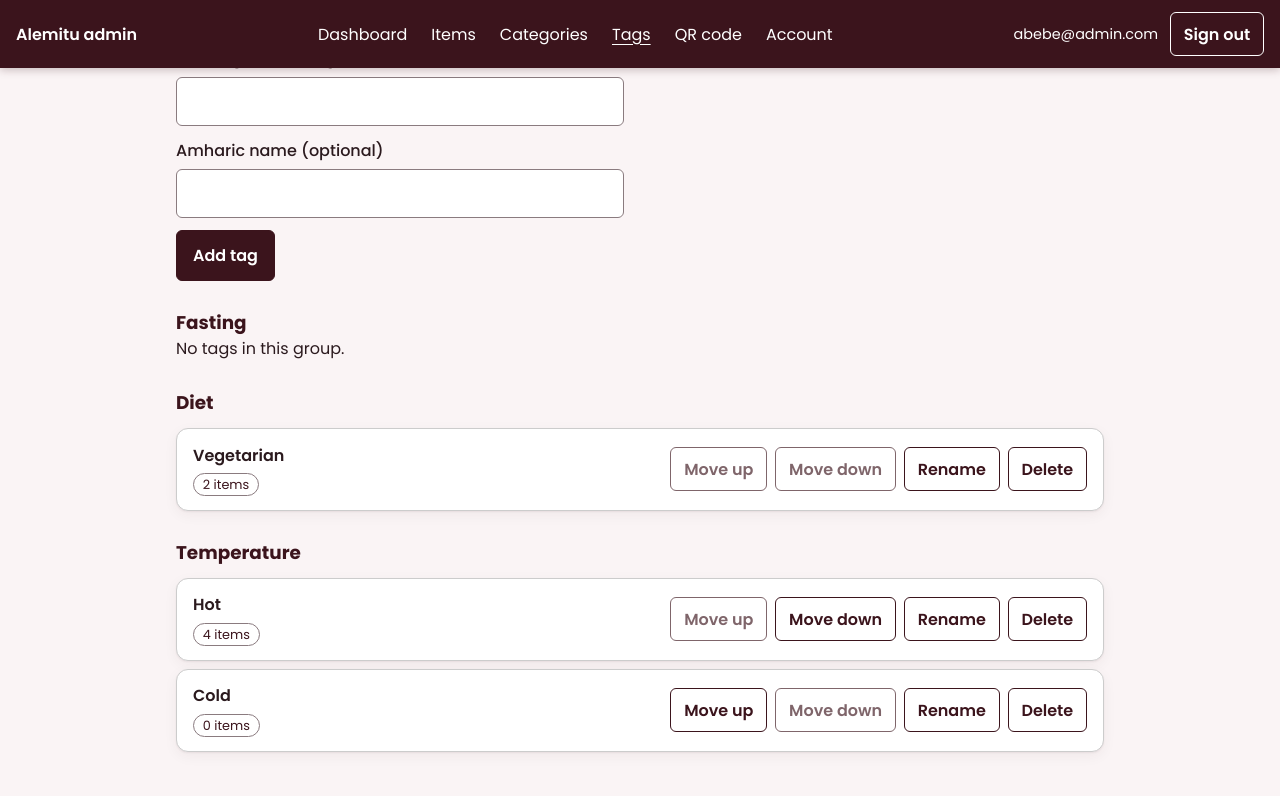
admin tags page › warns how many items lose the tag, then deletes it
(page scrolled)
What coordinates should you click on to do the following:
click the button with aria-label "Delete: Hot"
I would click on:
 (1047, 619)
Its box is [1008,597,1087,641].
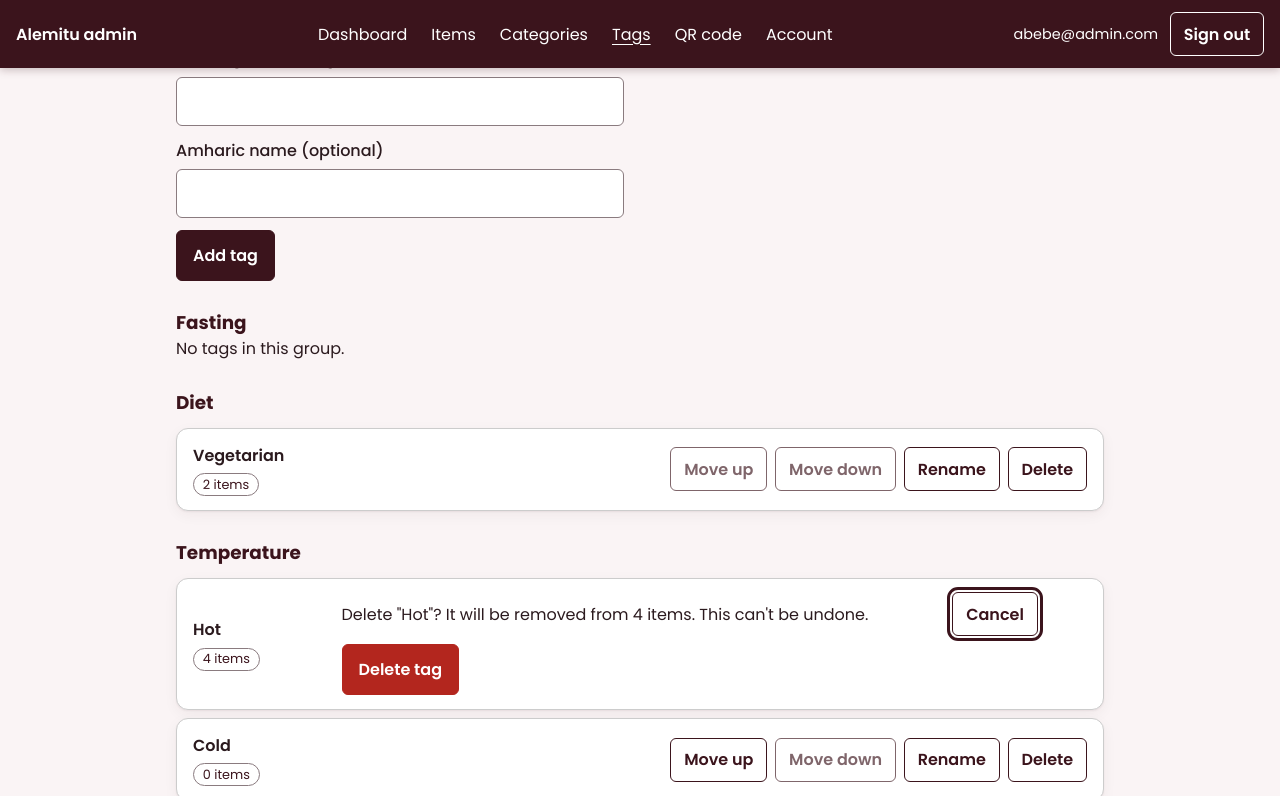
Expected: the element named "Confirm deleting Hot" shows "It will be removed from 4 items.", [342,603,868,626]
What coordinates should you click on to do the following:
click the button "Cancel"
I would click on:
 (995, 614)
Its box is [952,592,1038,636].
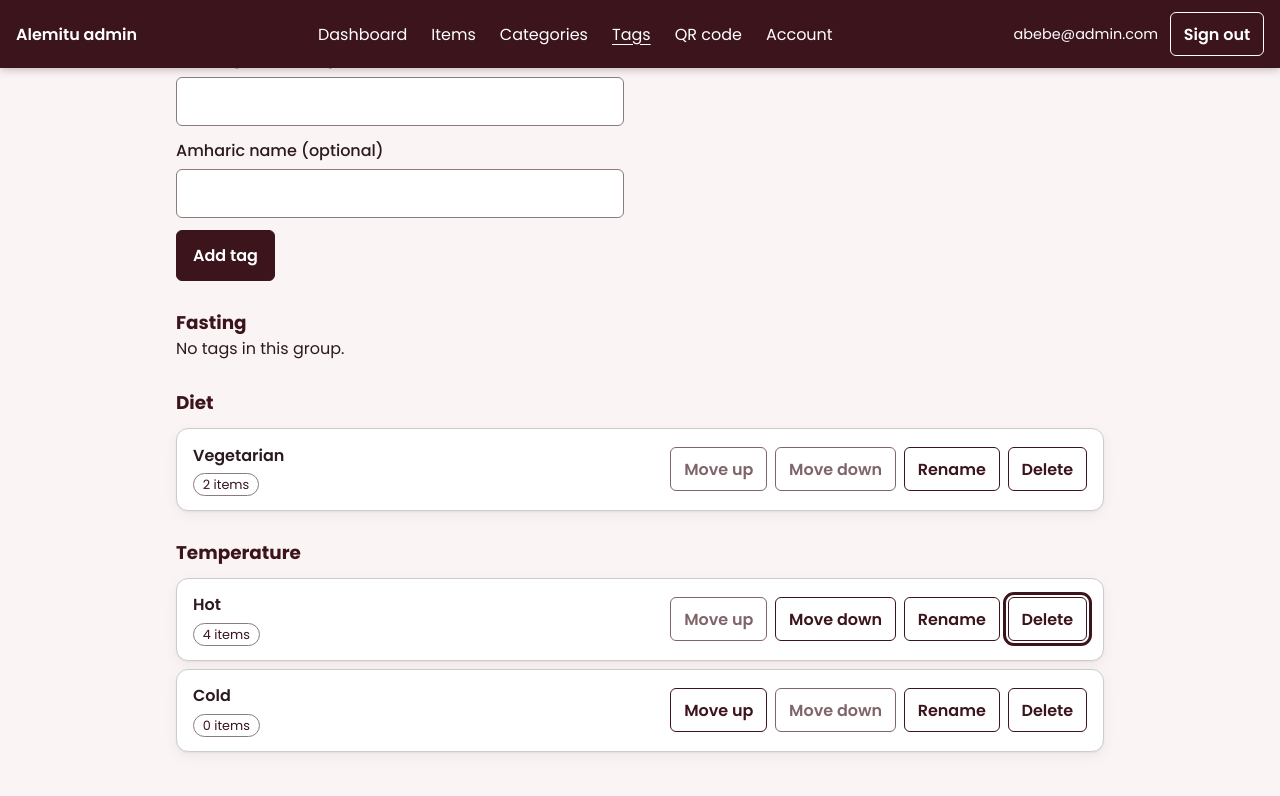
What coordinates should you click on to do the following:
click the button with aria-label "Delete: Hot"
I would click on:
 (1047, 619)
Its box is [1008,597,1087,641].
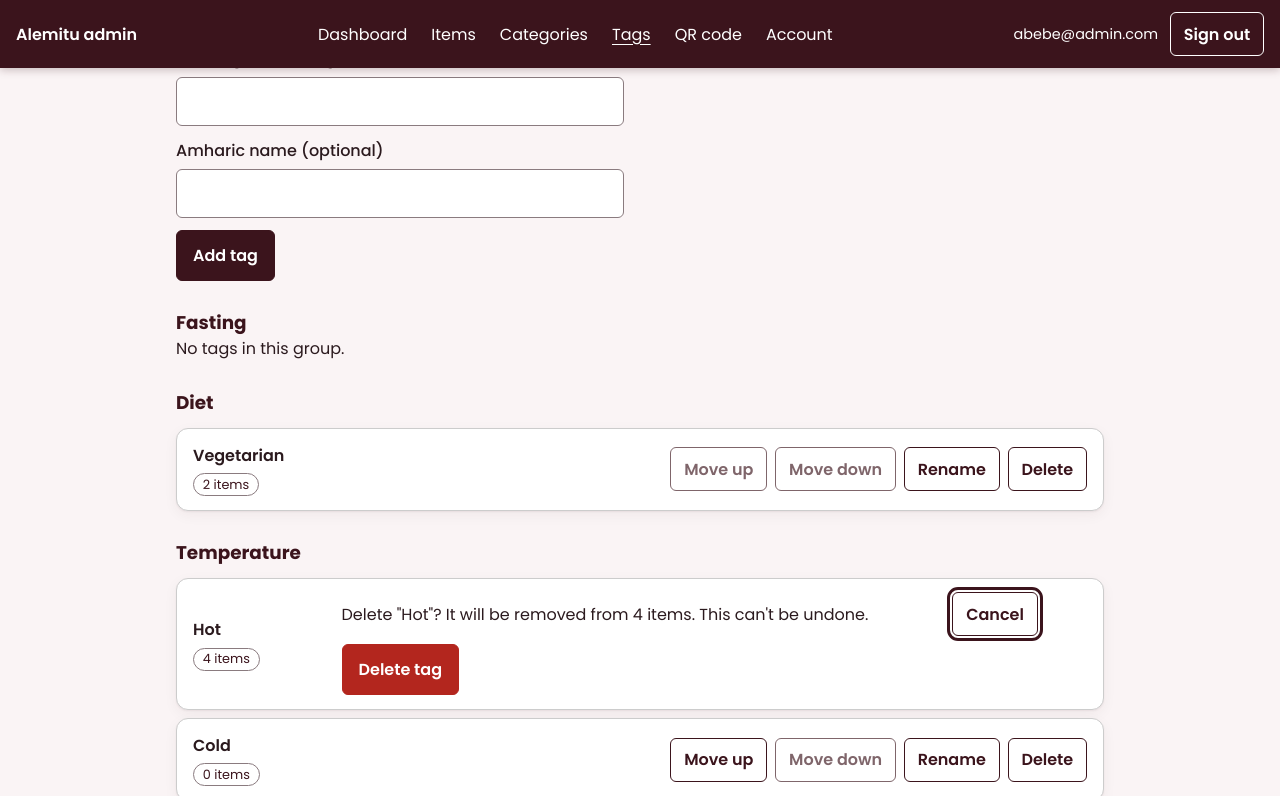
What coordinates should you click on to do the following:
click the button "Delete tag"
I would click on:
 (400, 670)
Its box is [342,644,459,696].
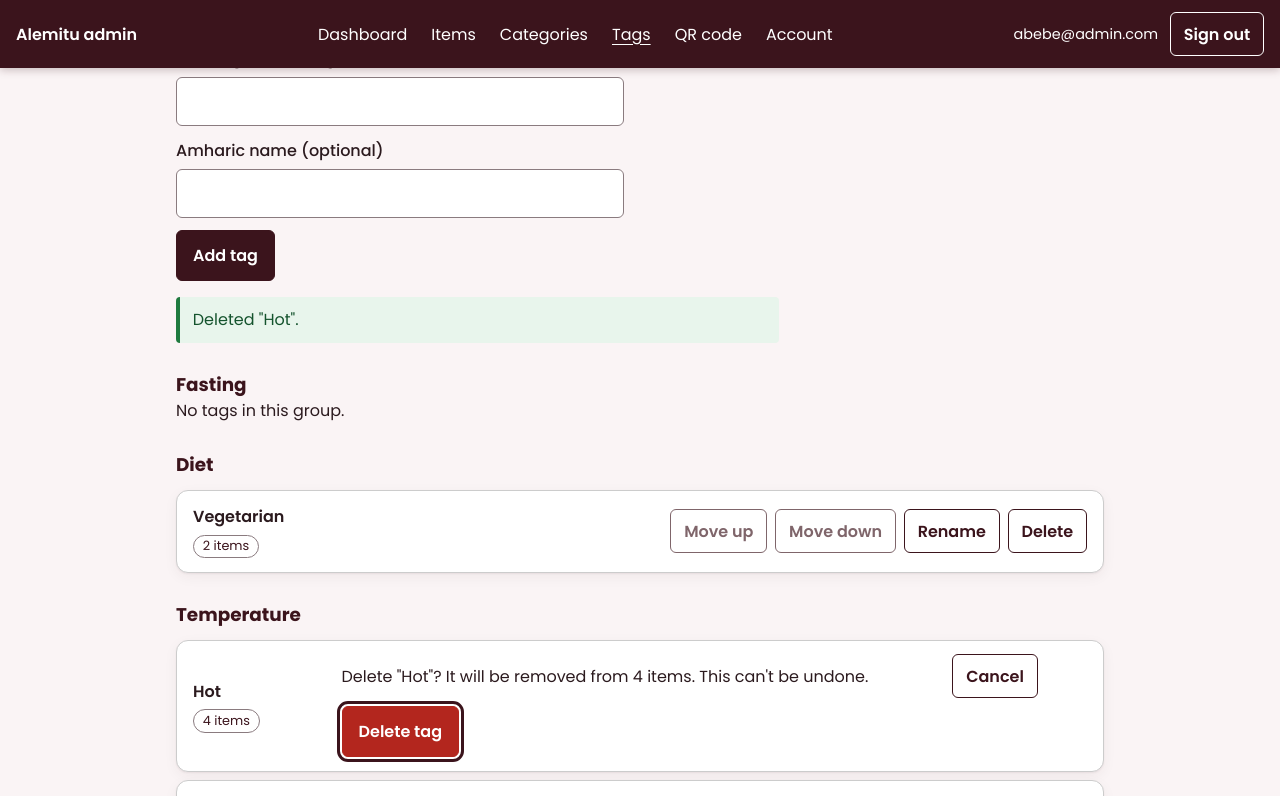
Expected: the text "Deleted \"Hot\"." is shown, [176,297,779,343]
